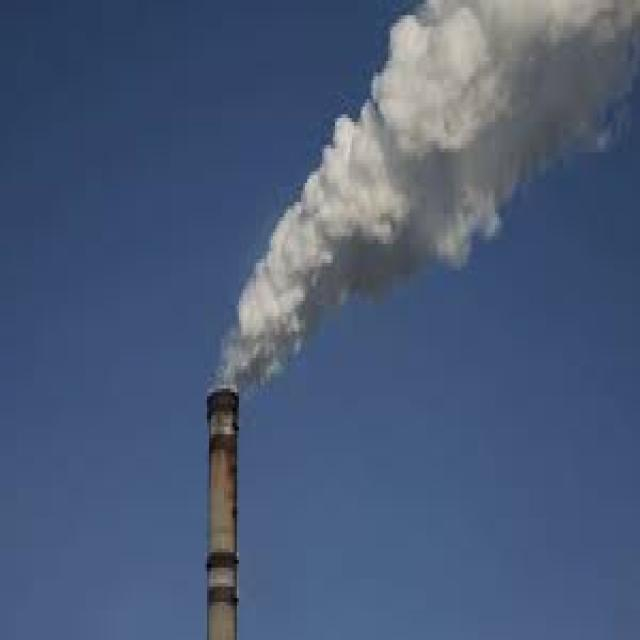Smoke: (206, 0, 640, 404)
